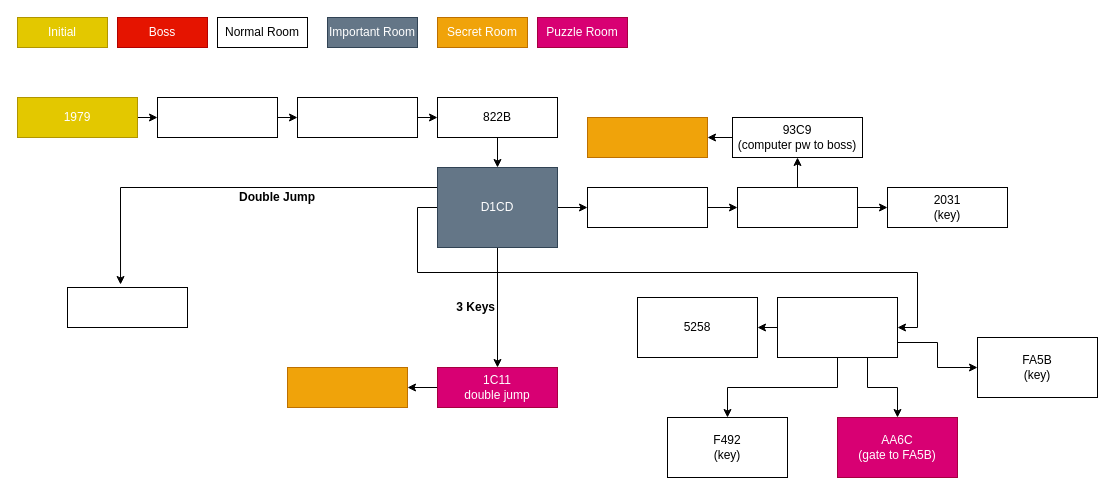
The diagram is 1115 pixels wide and 495 high, and some of its shapes have lost their labels. Here are the shapes that lost their labels. From the top down, the centre of each, then its label:
At point 217,117: "483C".
At point 357,117: "AFB8".
At point 647,137: "4F09".
At point 647,207: "240F".
At point 797,207: "5F4A".
At point 127,307: "39C4".
At point 837,327: "07D3".
At point 347,387: "9A0E".
